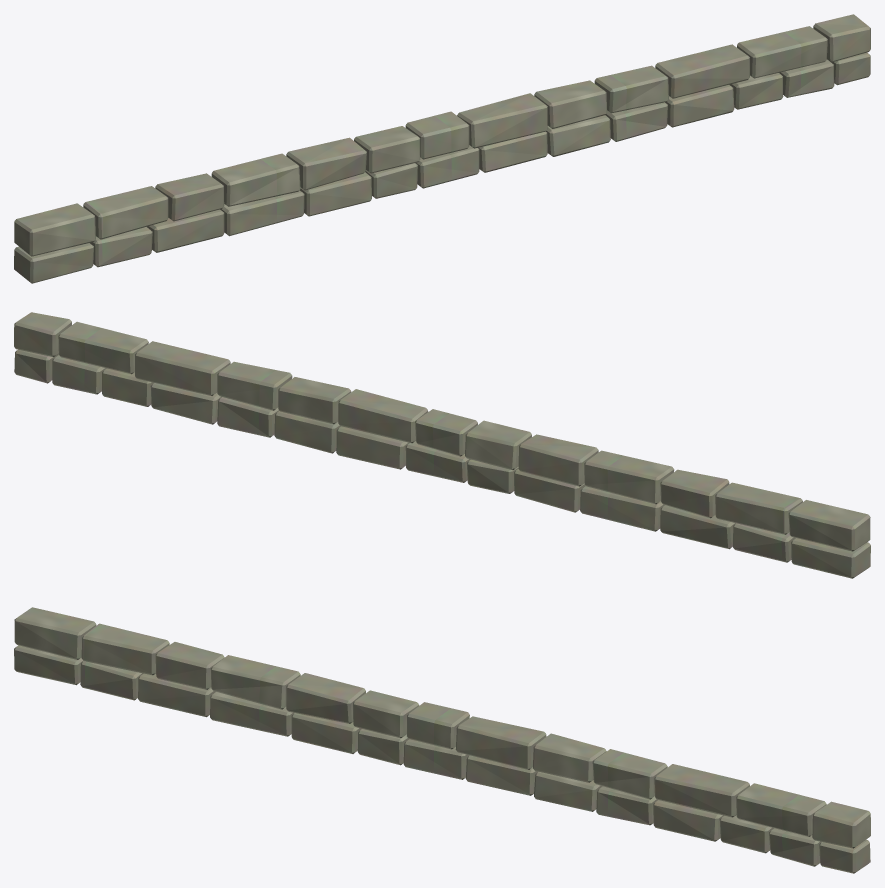
Rendered from SM_HH_V2_Stone_Far.fbx.
3 views of the same model, one above another, from view 1: azimuth 30°, elevation 25°; view 2: azimuth 150°, elevation 25°; view 3: azimuth 330°, elevation 25° (orthographic).
Parts seen in each view (by area): view 1: HH_V2_Stone_Far; view 2: HH_V2_Stone_Far; view 3: HH_V2_Stone_Far.
Part boxes in pixels (left/top/right/bottom): HH_V2_Stone_Far: left=14, top=14, right=870, bottom=283; HH_V2_Stone_Far: left=14, top=312, right=870, bottom=578; HH_V2_Stone_Far: left=14, top=607, right=870, bottom=873.
Size of the model in its own units: 0.3503 by 8.68 by 0.5429.
